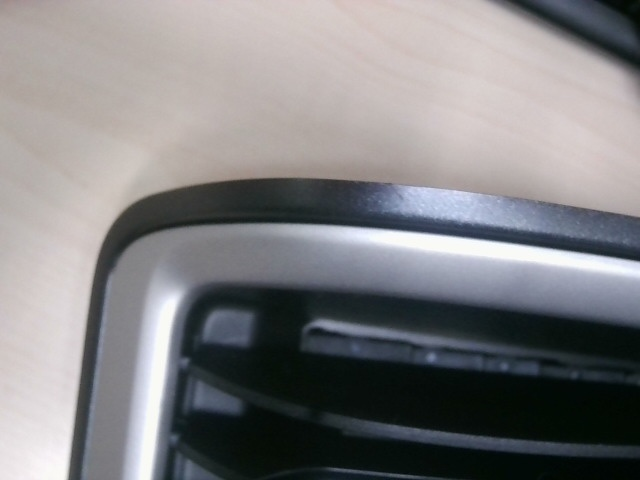NG: (385, 180, 414, 209)
